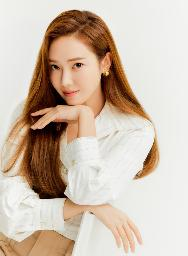face: (50, 37, 100, 103)
